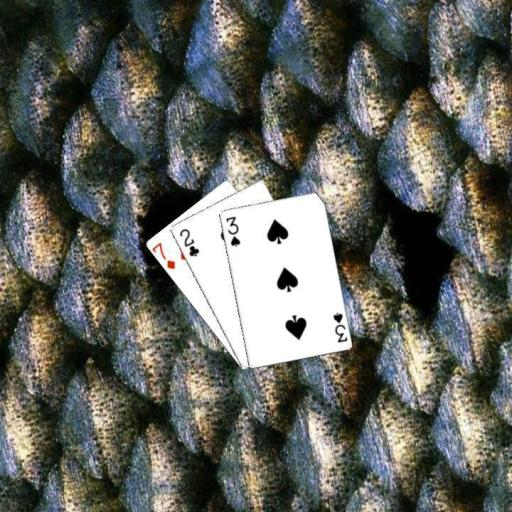card-corner: (150, 239, 176, 271), (176, 226, 200, 258), (223, 214, 241, 248), (330, 310, 348, 344)
